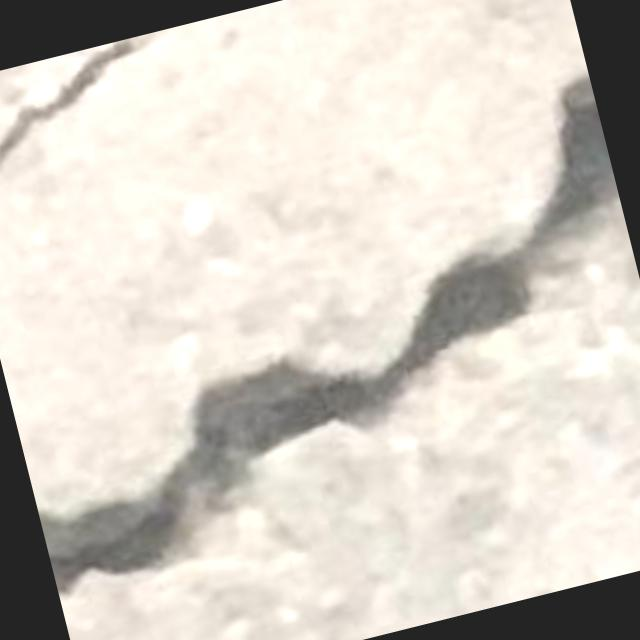crack: (39, 75, 616, 599)
